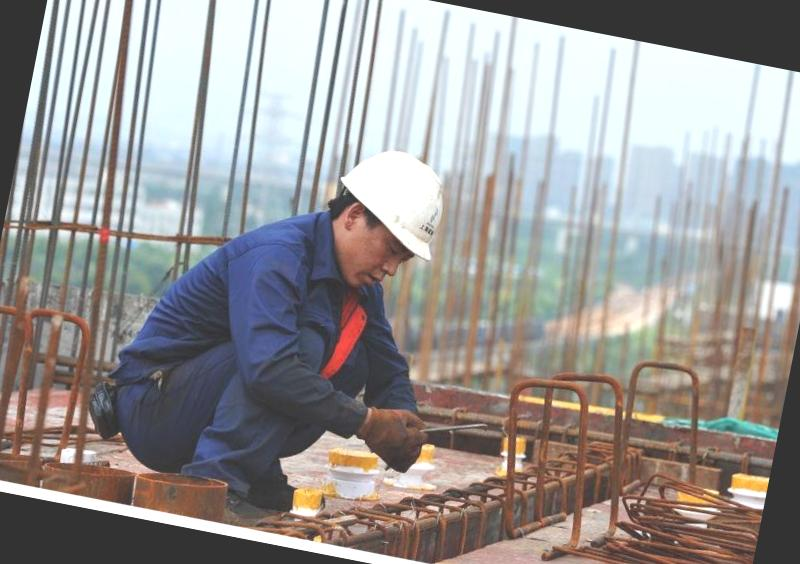helmet: (316, 137, 464, 276)
no_vest: (97, 213, 403, 473)
person: (88, 100, 472, 532)
